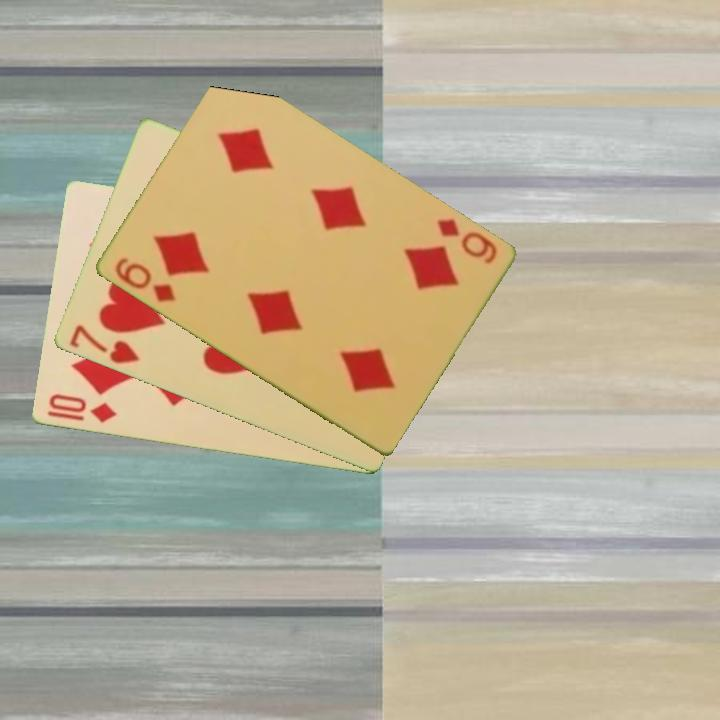10d: (45, 390, 119, 426)
6d: (110, 253, 178, 306), (432, 215, 500, 268)
7h: (65, 321, 142, 367)
